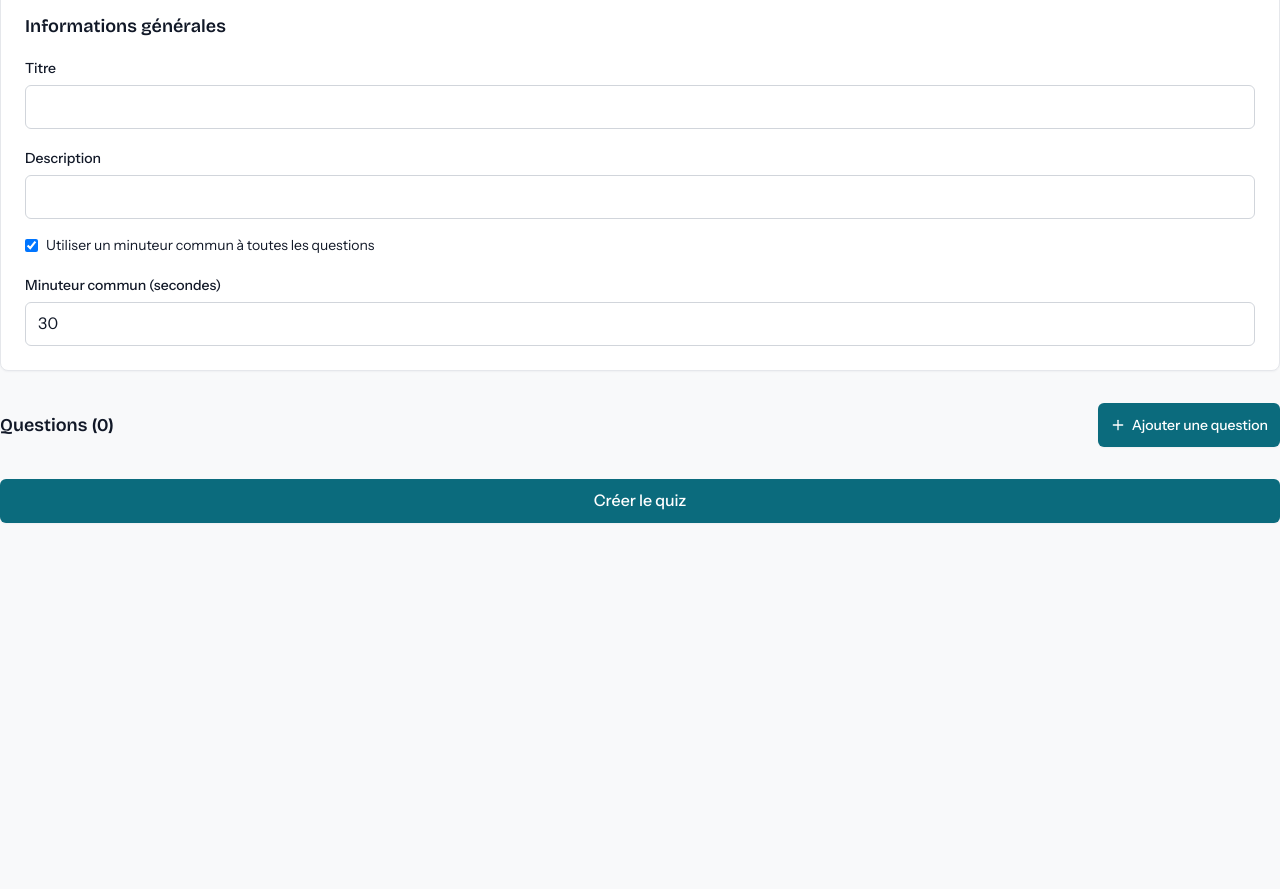
Test: QuestionBuilder : champ explication › propose une explication facultative limitée à 500 caractères
Click the button "Ajouter une question". click: (1189, 425)
box: left=1098, top=403, right=1279, bottom=447
(page scrolled)
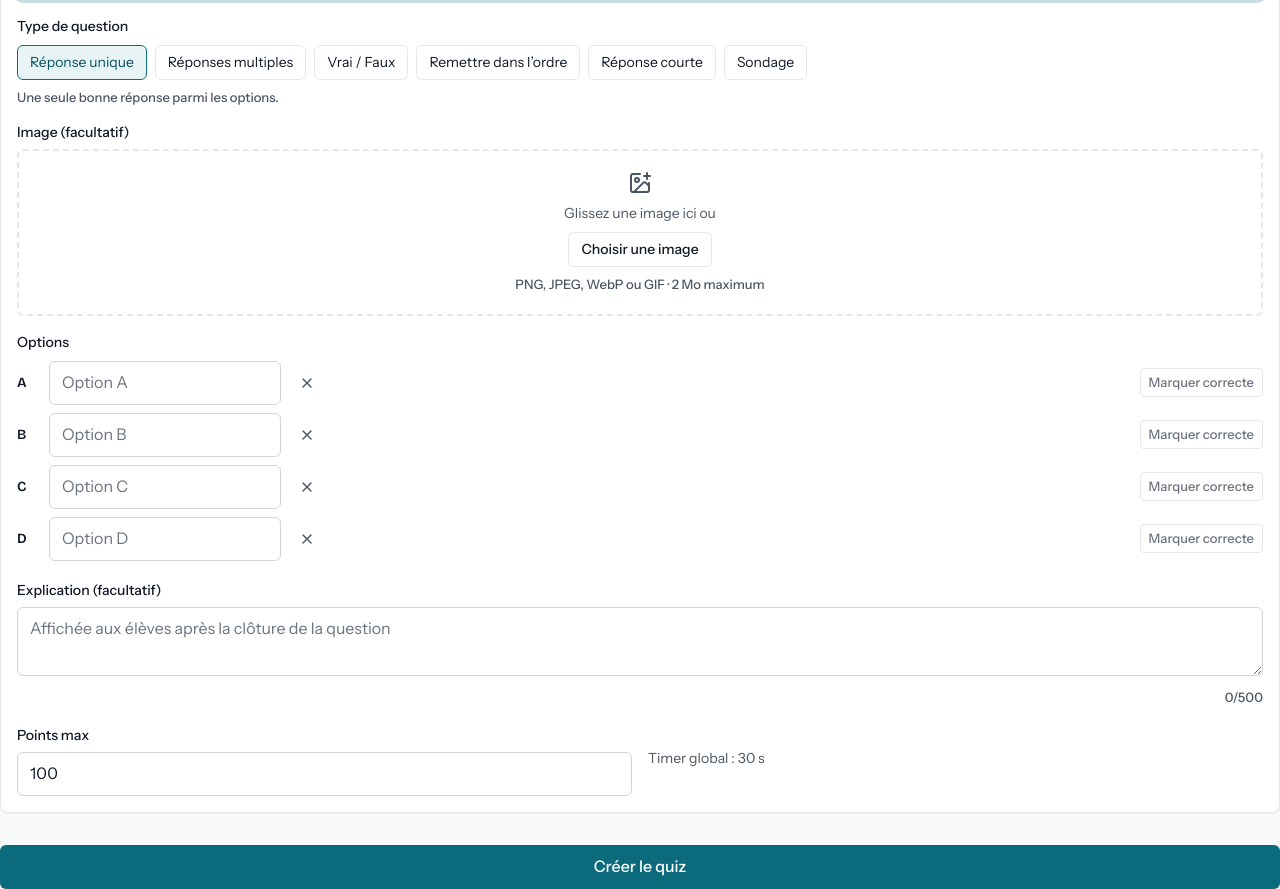
Now the text "0/500" is shown, box left=1225, top=689, right=1263, bottom=705
Type "Parce que 1/2 = 2/4." into the text box labelled "Explication (facultatif)". click: (640, 641)
box: left=17, top=607, right=1263, bottom=676
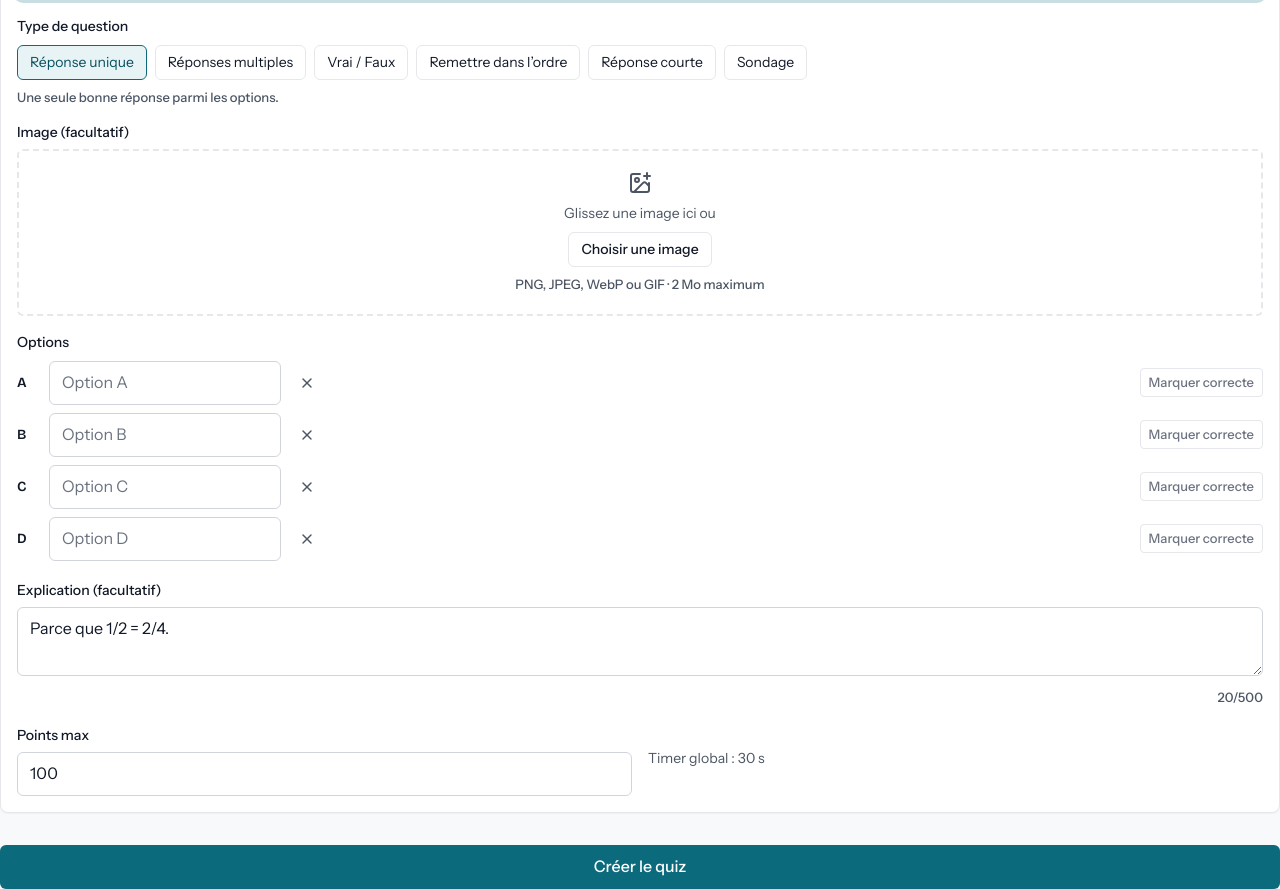
Now the text "20/500" is shown, box left=1217, top=689, right=1263, bottom=705
